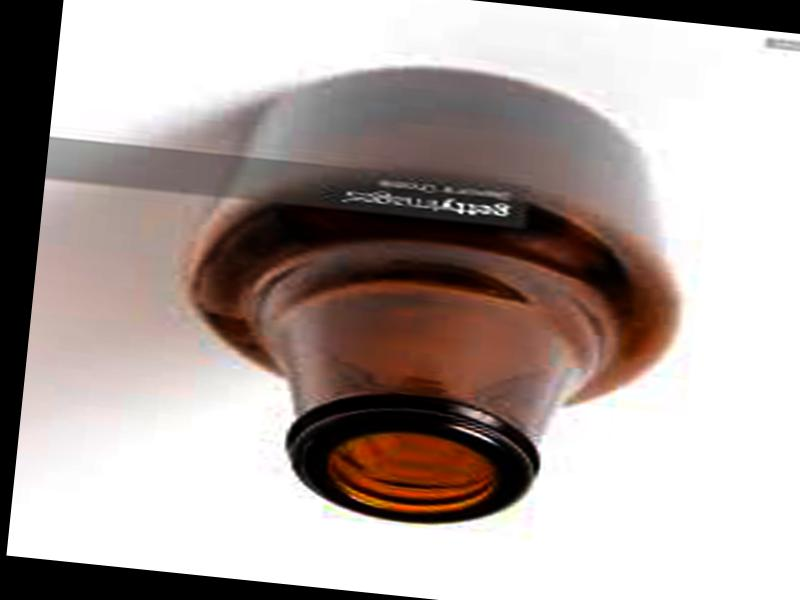Beer: (161, 42, 699, 549)
